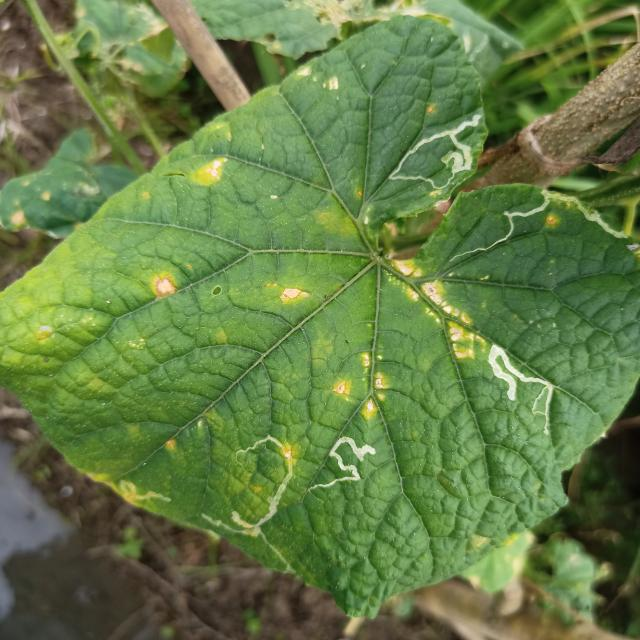disease_cucumber: (386, 260, 488, 368), (334, 349, 391, 425), (297, 64, 348, 94), (195, 147, 229, 187), (275, 284, 312, 308), (155, 272, 177, 300), (543, 215, 560, 231)
